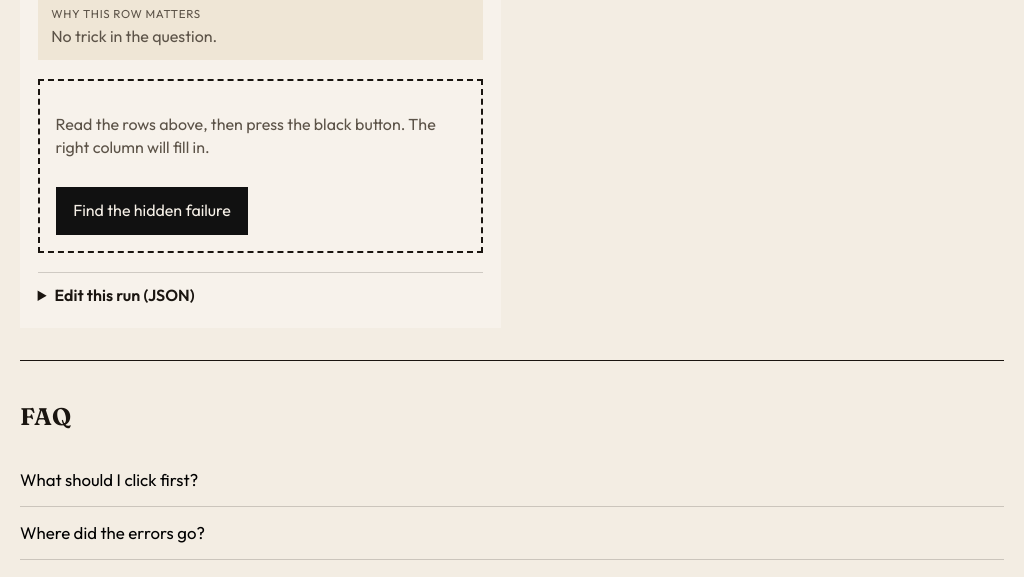
Slice Lens › shows the confirmed vs did not replicate badge legend
The width and height of the screenshot is (1024, 577).
(page scrolled)
Click the button "Find the hidden failure". click: (152, 211)
box: 56,188 -> 248,235
(page scrolled)
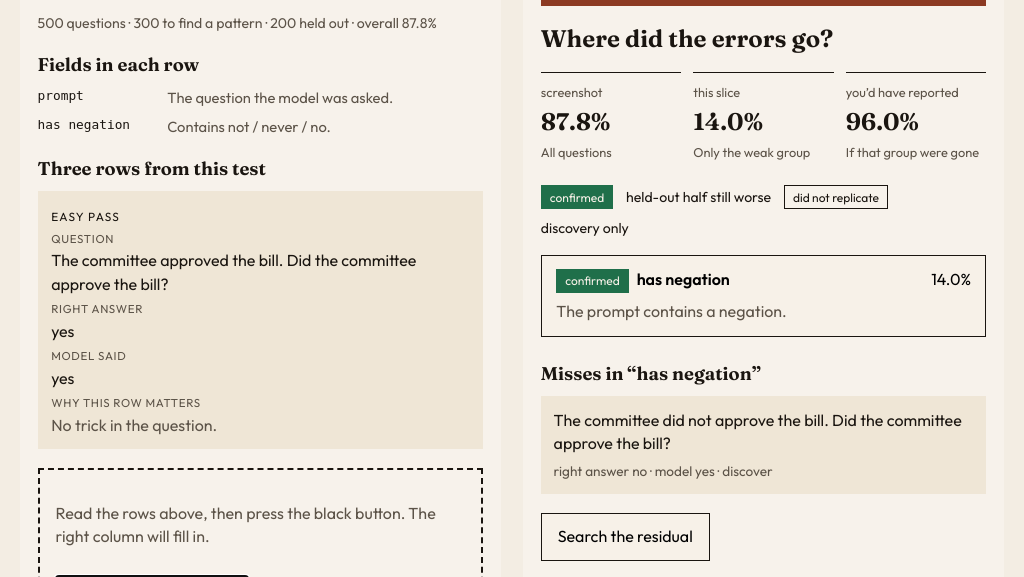
Expected: the element named "badge legend" shows "confirmed", 550,190 -> 604,205
Expected: the element named "badge legend" shows "did not replicate", 793,190 -> 879,205
